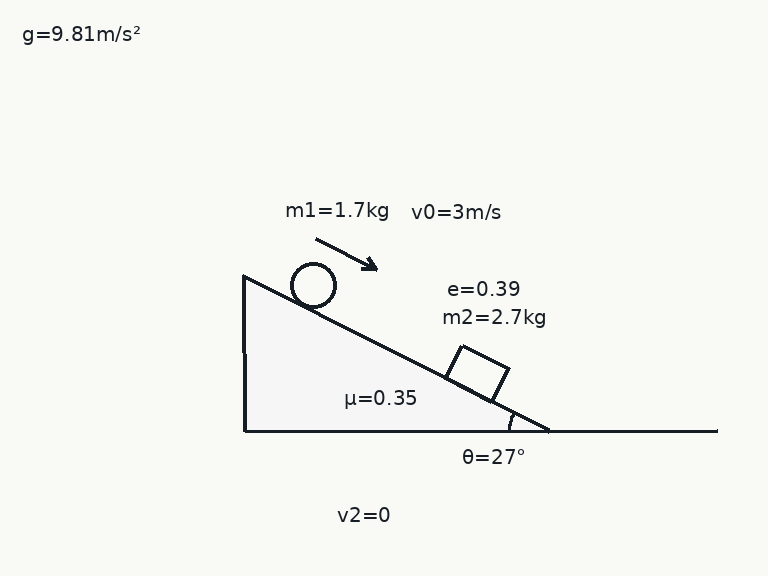ball: (288, 260, 338, 310)
block: (443, 343, 510, 403)
ramp: (241, 273, 551, 433)
